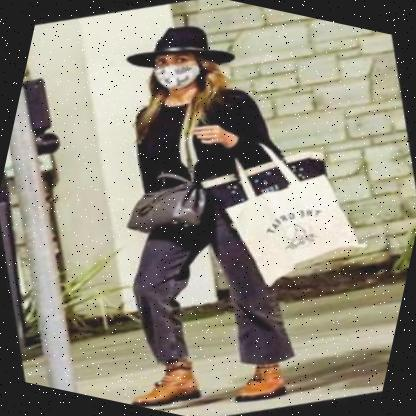bag: (180, 124, 378, 310), (114, 159, 213, 257)
person: (53, 4, 359, 416)
